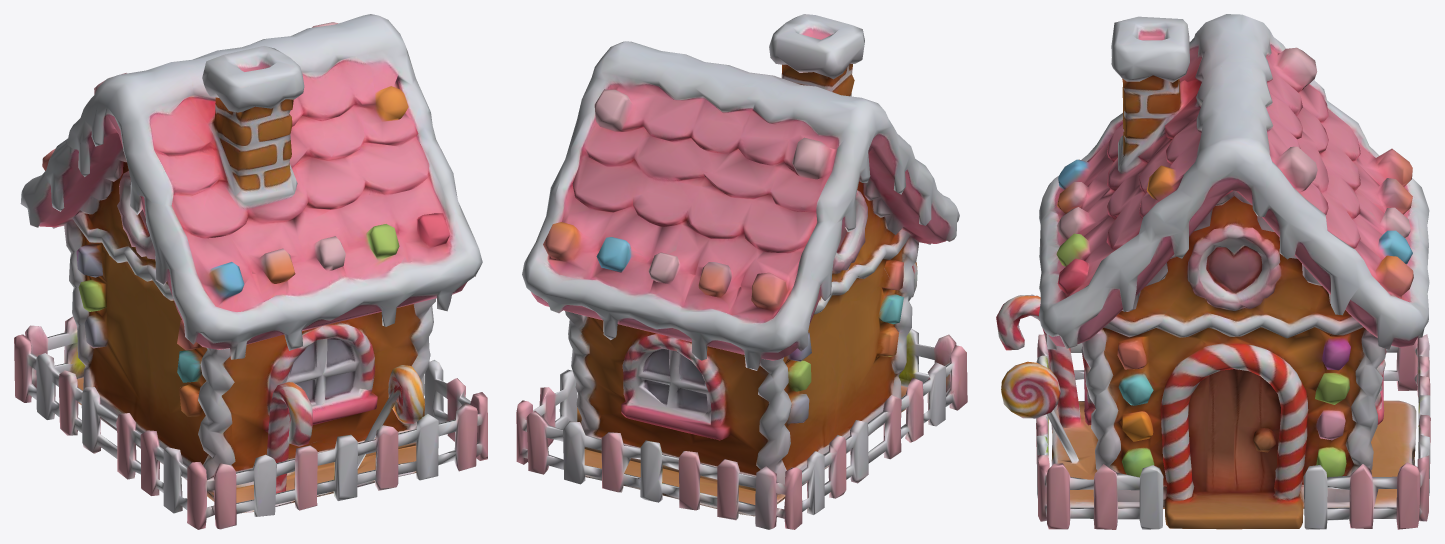
Rendered from deco_house.glb.
3 views of the same model, side by side, from view 1: azimuth 30°, elevation 25°; view 2: azimuth 150°, elevation 25°; view 3: azimuth 270°, elevation 25° (orthographic). The views are drawn at different scales.
Parts seen in each view (by area): view 1: tripo_node_8639ce42-eaff-45f8-a4a0-d19d6b30eb4c; view 2: tripo_node_8639ce42-eaff-45f8-a4a0-d19d6b30eb4c; view 3: tripo_node_8639ce42-eaff-45f8-a4a0-d19d6b30eb4c.
Part boxes in pixels (<box>): tripo_node_8639ce42-eaff-45f8-a4a0-d19d6b30eb4c: <box>14,14,487,529</box>; tripo_node_8639ce42-eaff-45f8-a4a0-d19d6b30eb4c: <box>516,14,967,529</box>; tripo_node_8639ce42-eaff-45f8-a4a0-d19d6b30eb4c: <box>996,14,1430,529</box>.
Size of the model in its own units: 0.7575 by 1 by 0.9589.
1 material, 1 textured.
